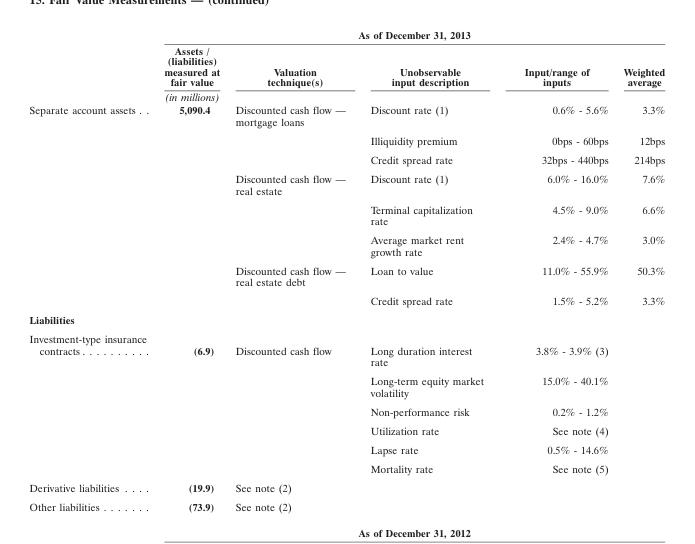table: (28, 28, 664, 512)
table column: (357, 28, 503, 512), (227, 28, 357, 512), (28, 28, 154, 512), (503, 28, 615, 512), (154, 28, 227, 512), (615, 28, 664, 512)
table column header: (28, 28, 664, 103)
table projected row header: (28, 310, 664, 329)
table row: (28, 42, 664, 103), (28, 329, 664, 371), (28, 168, 664, 199), (28, 229, 664, 260), (28, 199, 664, 229), (28, 260, 664, 290), (28, 371, 664, 401), (28, 103, 664, 130), (28, 290, 664, 310), (28, 477, 664, 497), (28, 130, 664, 149), (28, 149, 664, 168), (28, 310, 664, 329), (28, 401, 664, 420), (28, 420, 664, 439), (28, 439, 664, 458), (28, 458, 664, 477), (28, 497, 664, 512), (28, 28, 664, 42)
table spanning cell: (154, 28, 664, 42)
